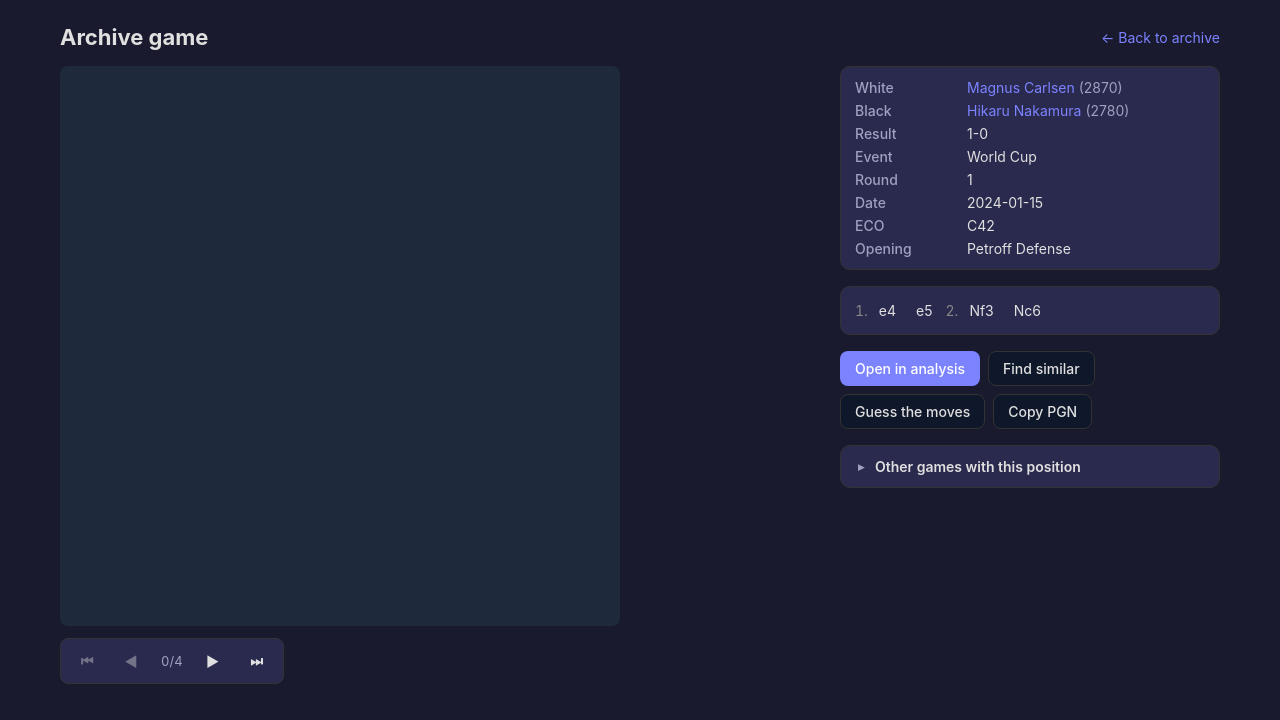
Scenario: ArchiveGamePage — кнопки действий › «Copy PGN» зовёт navigator.clipboard.writeText
Step 1. Click the button with test id "archive-game-page-copy-pgn" → (1043, 412), box [993,394,1092,429]
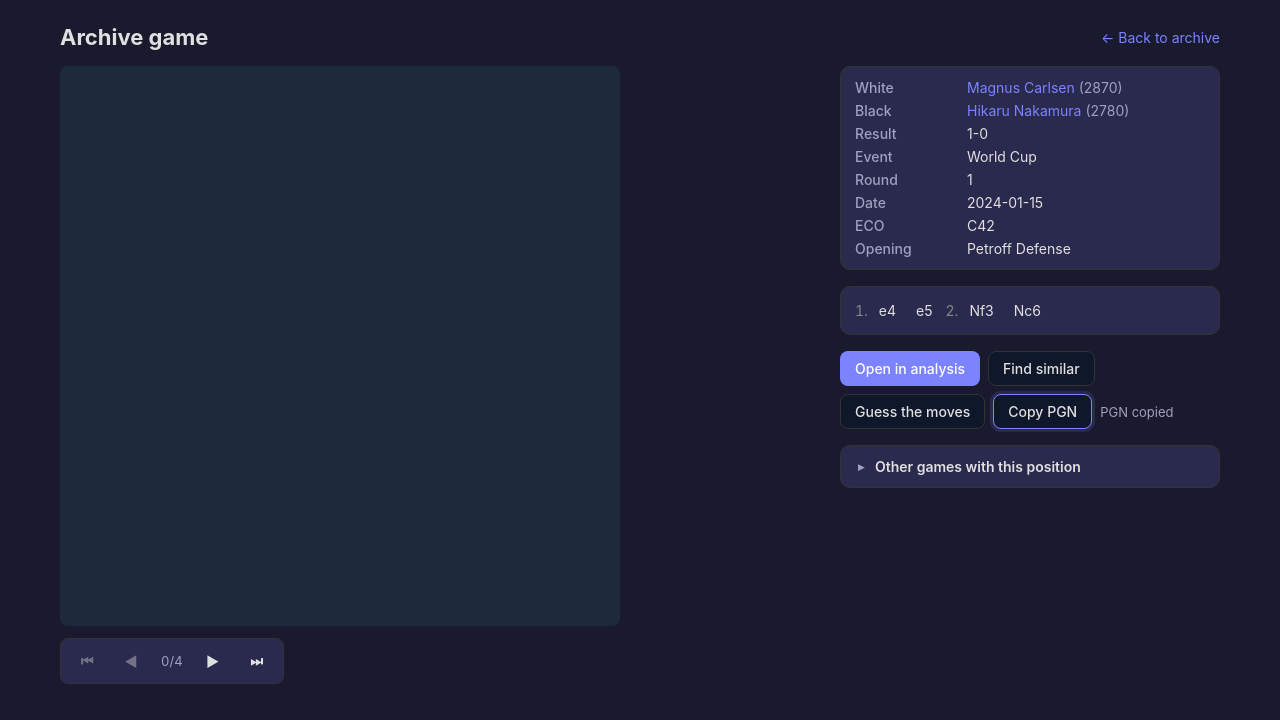
Result: the message "PGN copied" is shown at [1100,404,1174,420]
